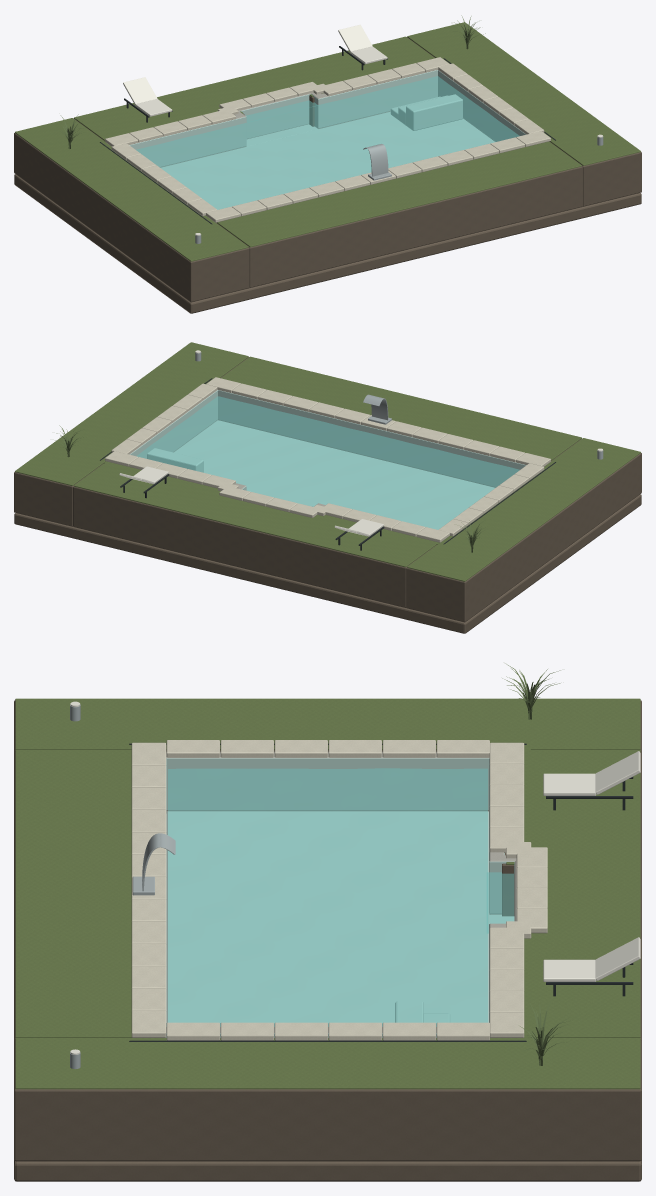
Rendered from piscina-DcThvCgW.glb.
3 renders of one model, top to bottom at view 1: azimuth 30°, elevation 25°; view 2: azimuth 150°, elevation 25°; view 3: azimuth 270°, elevation 25°, orthographic. The views are drawn at different scales.
Parts seen in each view (by area): view 1: phase_finish__grass, phase_site__soil, phase_details__water, phase_structure__pool_liner, phase_envelope__pool_liner, phase_finish__limestone, phase_details__white, phase_details__metal, phase_structure__concrete, phase_details__foliage; view 2: phase_finish__grass, phase_site__soil, phase_details__water, phase_structure__pool_liner, phase_finish__limestone, phase_envelope__pool_liner, phase_details__white, phase_details__metal, phase_structure__concrete, phase_details__foliage; view 3: phase_finish__grass, phase_details__water, phase_structure__pool_liner, phase_site__soil, phase_finish__limestone, phase_envelope__pool_liner, phase_details__white, phase_structure__concrete, phase_details__foliage, phase_details__metal, phase_finish__graphite, phase_details__graphite.
Boxes of the visible parts, x1,y1,x2,y2 form: phase_finish__grass: (15,22,640,261); phase_site__soil: (14,37,641,313); phase_details__water: (136,76,519,209); phase_structure__pool_liner: (161,112,494,209); phase_envelope__pool_liner: (129,70,525,166); phase_finish__limestone: (105,57,550,222); phase_details__white: (123,24,602,235); phase_details__metal: (195,136,603,243); phase_structure__concrete: (133,70,526,167); phase_details__foliage: (55,15,485,148); phase_finish__grass: (15,342,640,581); phase_site__soil: (14,357,641,633); phase_details__water: (137,396,519,529); phase_structure__pool_liner: (174,420,494,529); phase_finish__limestone: (105,377,550,542); phase_envelope__pool_liner: (130,390,526,490); phase_details__white: (119,350,602,536); phase_details__metal: (195,352,603,459); phase_structure__concrete: (129,389,515,506); phase_details__foliage: (55,425,485,552); phase_finish__grass: (15,698,640,1089); phase_details__water: (168,768,513,1026); phase_structure__pool_liner: (167,811,514,1026); phase_site__soil: (14,700,641,1181); phase_finish__limestone: (131,740,547,1040); phase_envelope__pool_liner: (166,758,514,1037); phase_details__white: (70,701,640,1054); phase_structure__concrete: (166,751,516,1033); phase_details__foliage: (502,663,569,1065); phase_details__metal: (70,704,175,1069); phase_finish__graphite: (129,743,526,1041); phase_details__graphite: (546,777,633,996).
Bounding box in the file's own units: 12.8 × 2.25 × 8.7.
10 materials, 4 textured.
